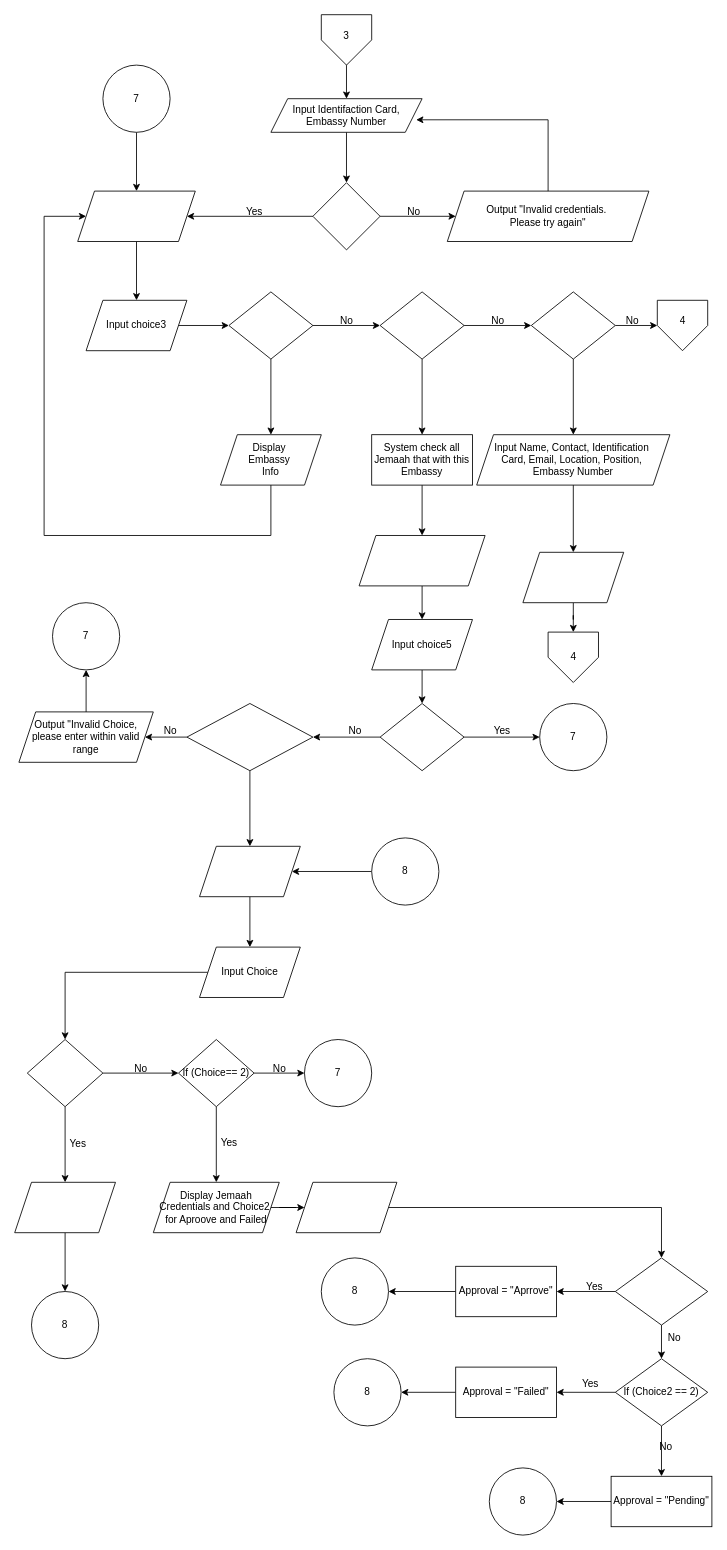
The diagram is 727 pixels wide and 1550 high, and some of its shapes have lost their labels. The shapes that lost their labels are listed below. From the top down, each one's centre as x and y in pixels, then its label:
the point at 136,216: Output Embasy Menu
the point at 346,216: found == true
the point at 270,325: if (choice3 == 1)
the point at 421,325: if (choice3 == 2)
the point at 572,325: if (choice3 == 3)
the point at 421,560: Display all Jemaah that with this Embassy
the point at 573,577: Output Embassy Credentials
the point at 249,737: If (choice5 == (Jemaah With this Embassy size))
the point at 421,737: If (choice5 == 0)
the point at 249,871: Output Visa Application Menu
the point at 64,1073: If (Choice== 1)
the point at 65,1207: Display Jemaah Credentials
the point at 346,1207: Input Choice2
the point at 661,1291: If (Choice2 == 1)
